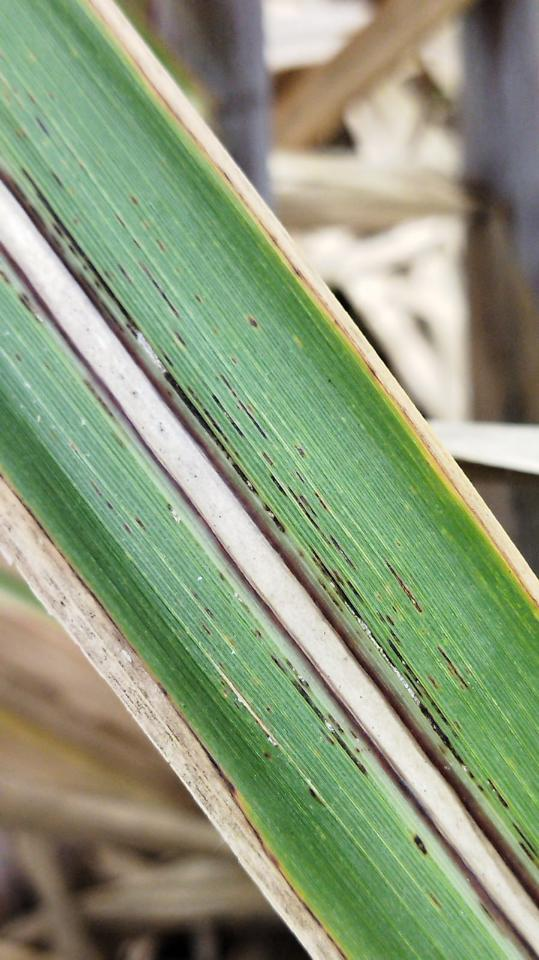Rust: (0, 470, 354, 959), (17, 163, 291, 536), (306, 540, 513, 810), (265, 649, 373, 781), (259, 448, 359, 573), (214, 371, 271, 442), (133, 257, 184, 324), (0, 263, 50, 328), (378, 552, 427, 617), (208, 391, 248, 441), (434, 643, 473, 693), (80, 373, 118, 422), (509, 819, 539, 866), (408, 829, 436, 860), (29, 109, 55, 142), (305, 783, 329, 808), (239, 310, 265, 332), (122, 513, 147, 535), (47, 167, 68, 192), (114, 261, 134, 285), (311, 487, 330, 511), (171, 328, 190, 352), (198, 603, 219, 621), (424, 671, 442, 691), (291, 443, 309, 461), (198, 621, 214, 638), (191, 289, 206, 306), (216, 569, 231, 585), (294, 469, 308, 486), (189, 589, 205, 603), (249, 627, 265, 640), (229, 354, 242, 368), (104, 497, 117, 511), (260, 751, 274, 762)
Yellow: (84, 0, 539, 615), (230, 783, 360, 959)
